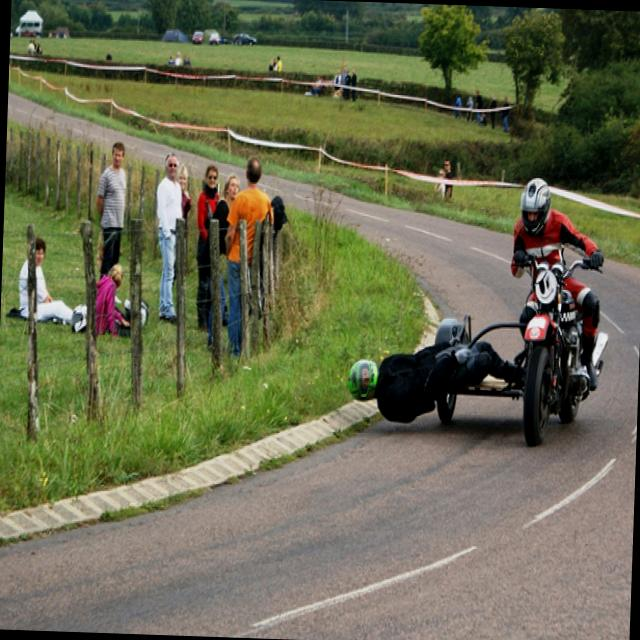Vehicle: (507, 245, 611, 454), (14, 9, 42, 36), (162, 30, 188, 44), (232, 32, 256, 47), (192, 30, 205, 44), (210, 32, 220, 44), (220, 37, 228, 44)
